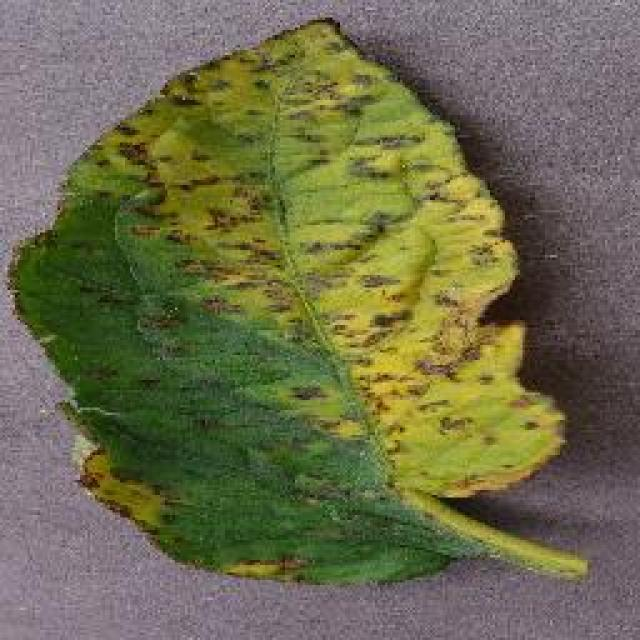bacterial spot: (5, 16, 584, 589)
